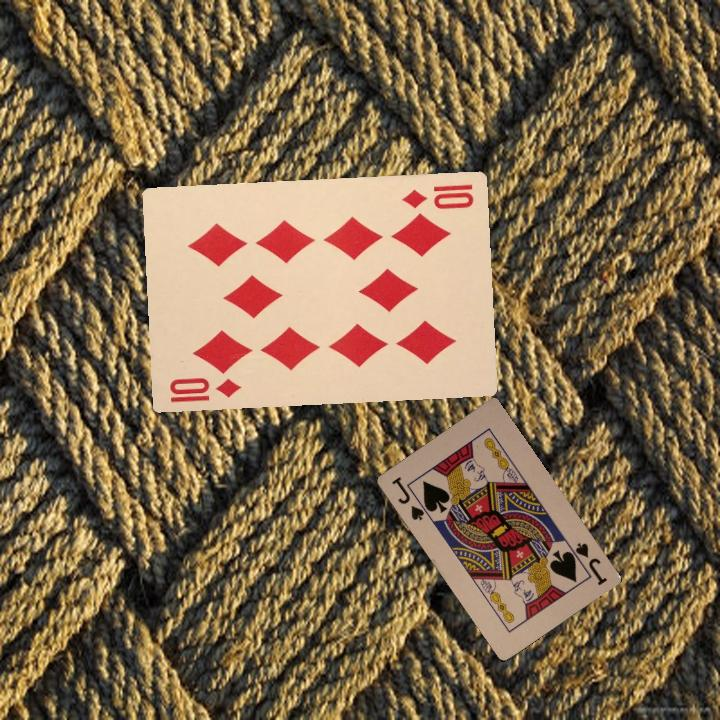10d: (164, 373, 244, 405), (398, 180, 476, 212)
Js: (565, 538, 610, 588), (387, 473, 431, 523)
